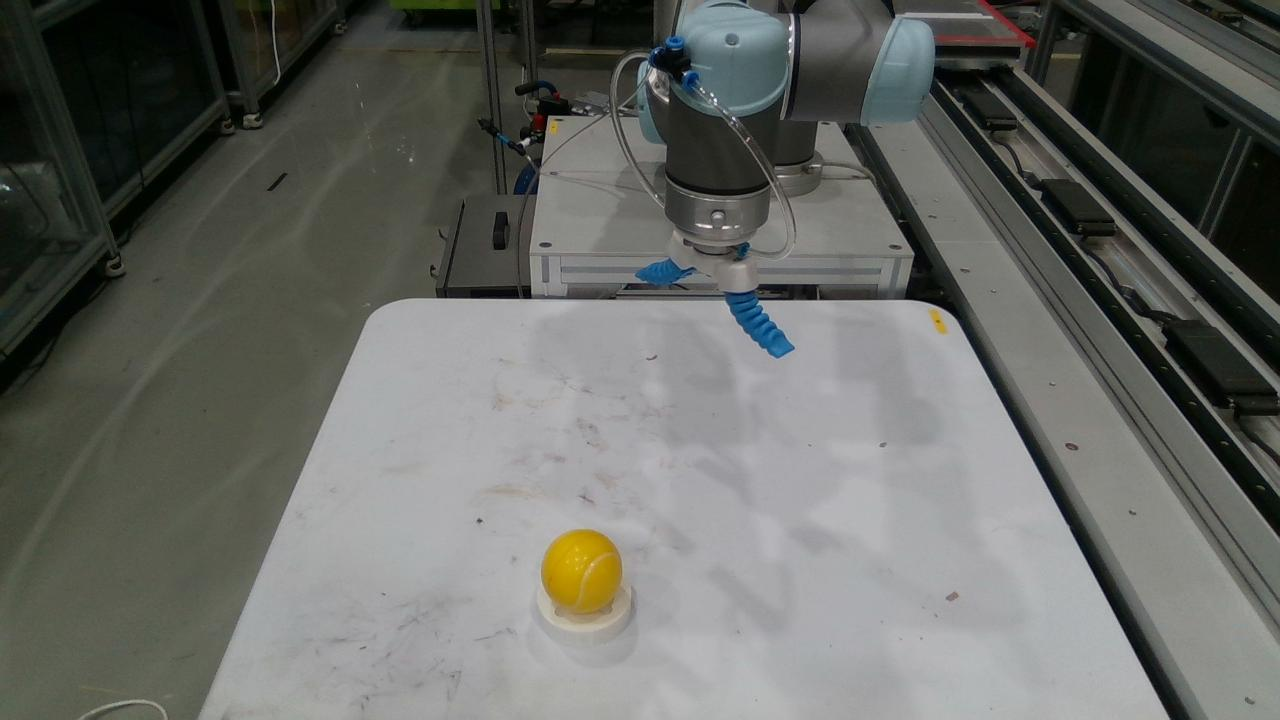UR5: (637, 0, 935, 294)
gripper_left: (635, 258, 697, 286)
gripper_right: (726, 292, 793, 358)
target: (540, 528, 623, 613), (536, 581, 634, 645)
